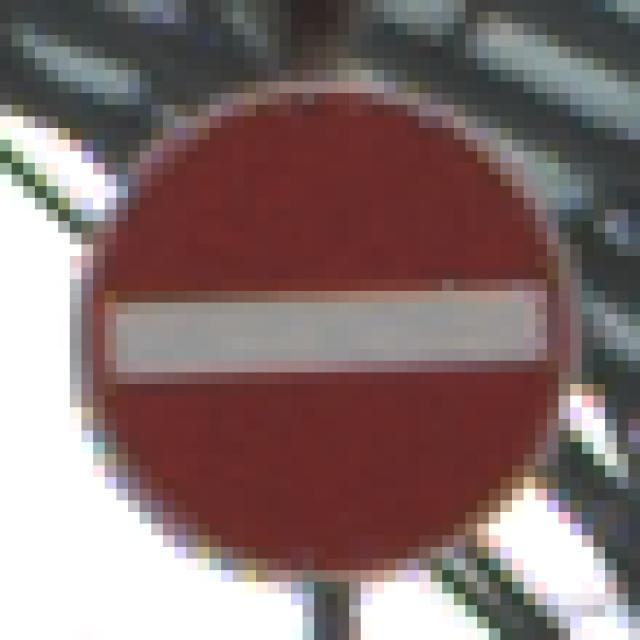no entry: (35, 56, 601, 596)
